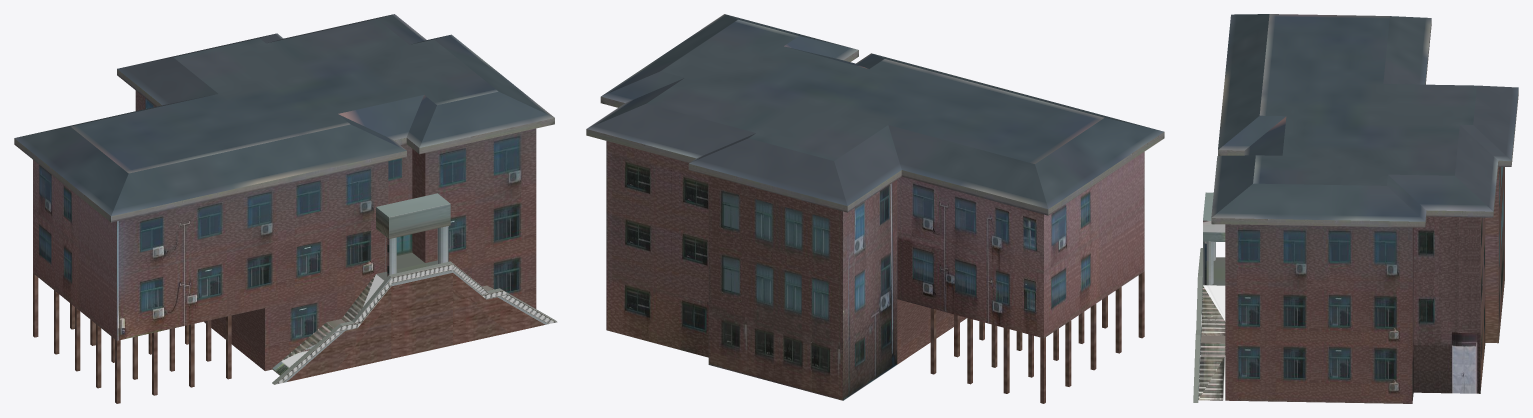
The model's file is undefined.gltf.
3 views of the same model, side by side, from view 1: azimuth 30°, elevation 25°; view 2: azimuth 150°, elevation 25°; view 3: azimuth 270°, elevation 25° (orthographic). The views are drawn at different scales.
Parts seen in each view (by area): view 1: Mesh01#7; view 2: Mesh01#7; view 3: Mesh01#7.
Boxes of the visible parts, x1,y1,x2,y2 form: Mesh01#7: (14, 14, 557, 403); Mesh01#7: (586, 14, 1164, 403); Mesh01#7: (1193, 14, 1518, 403).
Bounding box in the file's own units: 0.0366 × 0.017 × 0.0243.
Materials: 5 (4 with a texture image).
